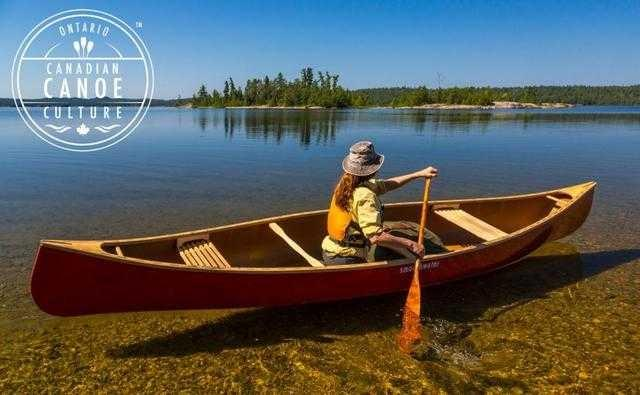kayak: (29, 183, 604, 315)
